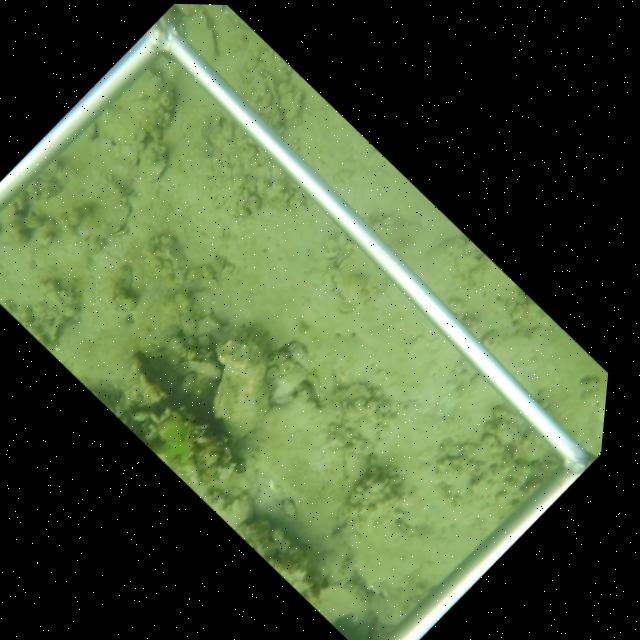Oyster-Closed: (211, 370, 272, 442), (312, 579, 370, 640)
Oyster-Indeterminate: (62, 173, 135, 243), (215, 337, 271, 384), (180, 6, 221, 66), (135, 138, 173, 185), (168, 357, 218, 383)
